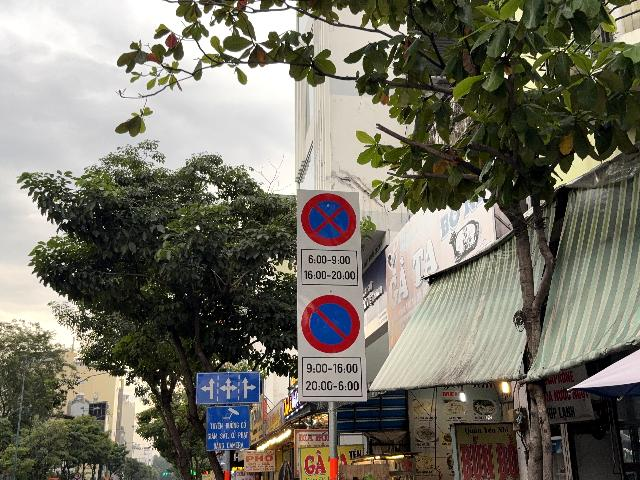cam-do-xe: (301, 295, 360, 353)
cam-dung-va-do-xe: (301, 193, 356, 247)
